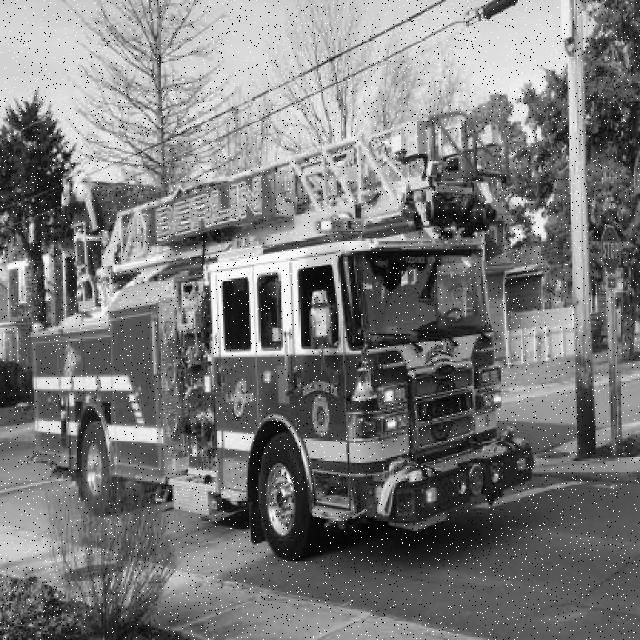Fire Truck: (29, 108, 535, 563)
